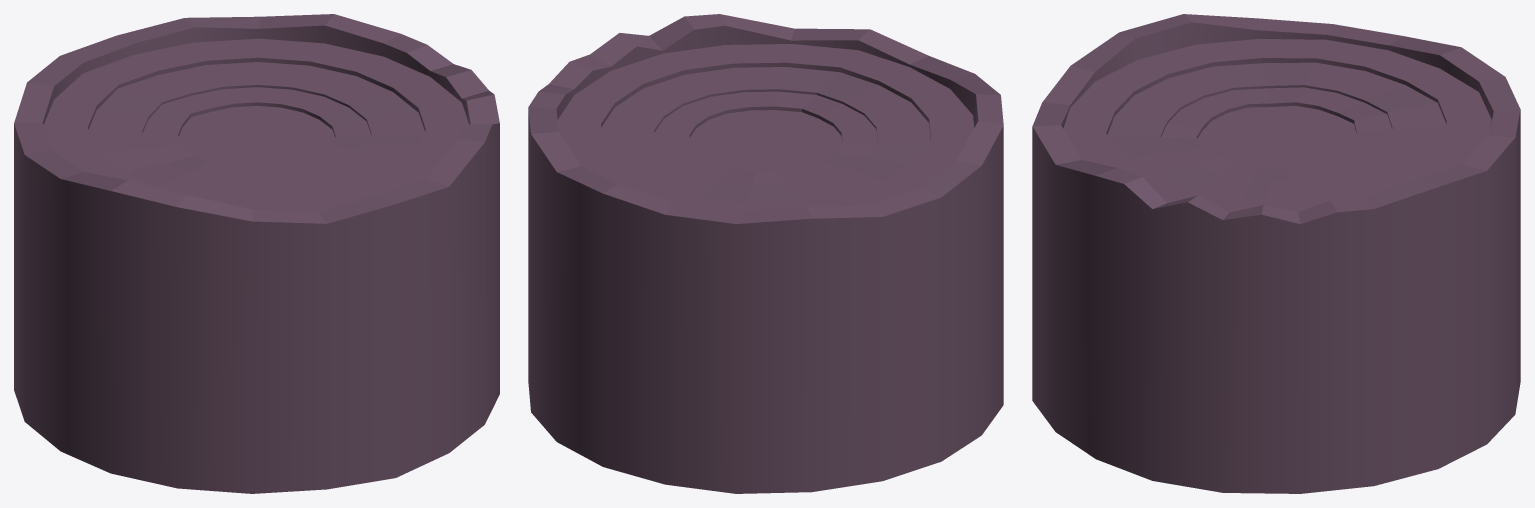
The model's file is SM_Log3.fbx.
3 renders of one model, left to right at view 1: azimuth 30°, elevation 25°; view 2: azimuth 150°, elevation 25°; view 3: azimuth 270°, elevation 25°, orthographic.
Visible parts, largest first — view 1: stump.003; view 2: stump.003; view 3: stump.003.
Part boxes in pixels (left/top/right/bottom): stump.003: left=14, top=14, right=499, bottom=493; stump.003: left=528, top=14, right=1003, bottom=493; stump.003: left=1032, top=14, right=1520, bottom=493.
Bounding box in the file's own units: 294 × 194 × 299.
